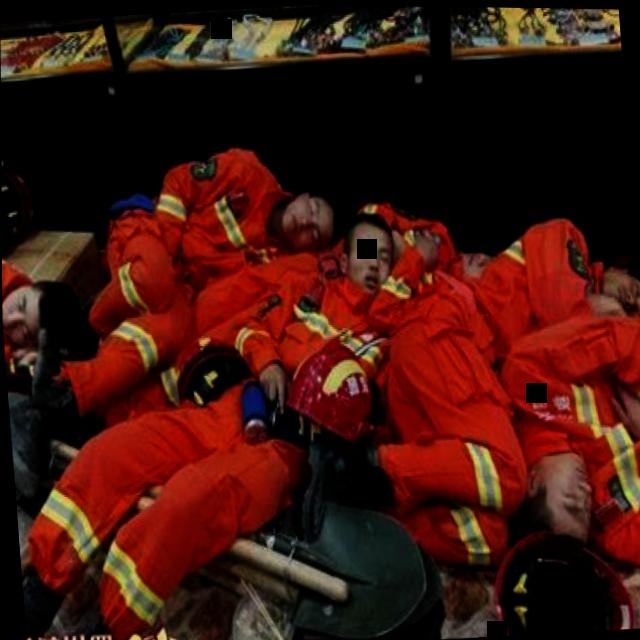Fall-Detected: (162, 202, 364, 416)
